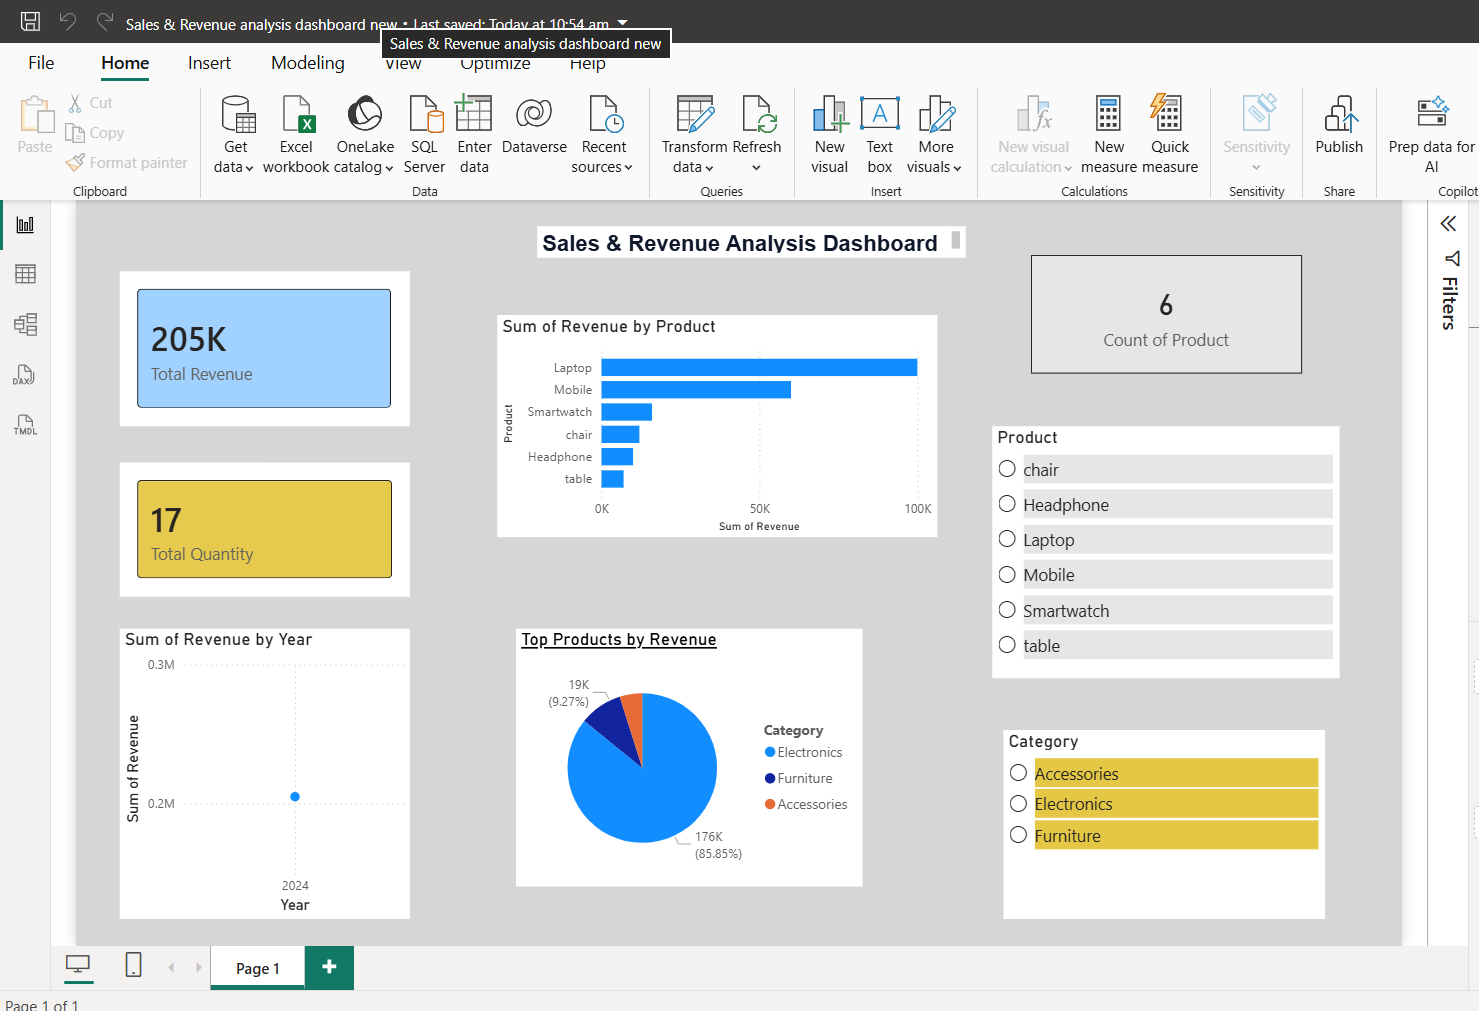

Layout of this report page (visuals, bound fields, positions):
{"tool":"powerbi","page":{"name":"Page 1","canvas":[1280,720],"ordinal":0},"visuals":[{"type":"cardVisual","fields":{"Data":["Sum(Sheet1.Revenue)"]},"box":[42.2,68.8,279.9,149.6],"z":0},{"type":"cardVisual","fields":{"Data":["Sum(Sheet1.Quality)"]},"box":[42.8,253.1,280,129.6],"z":1000},{"type":"card","fields":{"Values":["Count(Sheet1.Product)"]},"box":[921.7,53.1,261.8,114.6],"z":2000},{"type":"lineChart","fields":{"Category":["Sheet1.Date.Variation.Date Hierarchy.Year","Sheet1.Date.Variation.Date Hierarchy.Quarter","Sheet1.Date.Variation.Date Hierarchy.Month","Sheet1.Date.Variation.Date Hierarchy.Day"],"Y":["Sum(Sheet1.Revenue)"]},"box":[42.2,413.8,279.9,279.9],"z":3000},{"type":"pieChart","title":"Top Products by Revenue","fields":{"Category":["Sheet1.Category"],"Y":["Sum(Sheet1.Revenue)"]},"box":[424.7,413.8,334.2,248.5],"z":4000},{"type":"listSlicer","fields":{"Values":["Sheet1.Product"]},"box":[884.1,218.9,335.1,243.3],"z":5000},{"type":"listSlicer","fields":{"Values":["Sheet1.Category"]},"box":[895.1,511.1,310.6,182.2],"z":6000},{"type":"textbox","box":[445.1,25.7,413.3,30.6],"z":7000},{"type":"clusteredBarChart","fields":{"Category":["Sheet1.Product"],"Y":["Sum(Sheet1.Revenue)"]},"box":[406.6,111,424.7,214.7],"z":8000}]}

Visuals, with their boxes on the page's 1280x720 design canvas (x1, y1, x2, y2). These are canvas units, not pixel positions in the 1479x1011 screenshot, which may show the page scaled, cropped or inside an application window:
cardVisual - Sum(Sheet1.Revenue): left=42, top=69, right=322, bottom=218
cardVisual - Sum(Sheet1.Quality): left=43, top=253, right=323, bottom=383
card - Count(Sheet1.Product): left=922, top=53, right=1184, bottom=168
lineChart - Sheet1.Date.Variation.Date Hierarchy.Year x Sheet1.Date.Variation.Date Hierarchy.Quarter: left=42, top=414, right=322, bottom=694
"Top Products by Revenue" pieChart: left=425, top=414, right=759, bottom=662
listSlicer - Sheet1.Product: left=884, top=219, right=1219, bottom=462
listSlicer - Sheet1.Category: left=895, top=511, right=1206, bottom=693
textbox: left=445, top=26, right=858, bottom=56
clusteredBarChart - Sheet1.Product x Sum(Sheet1.Revenue): left=407, top=111, right=831, bottom=326
